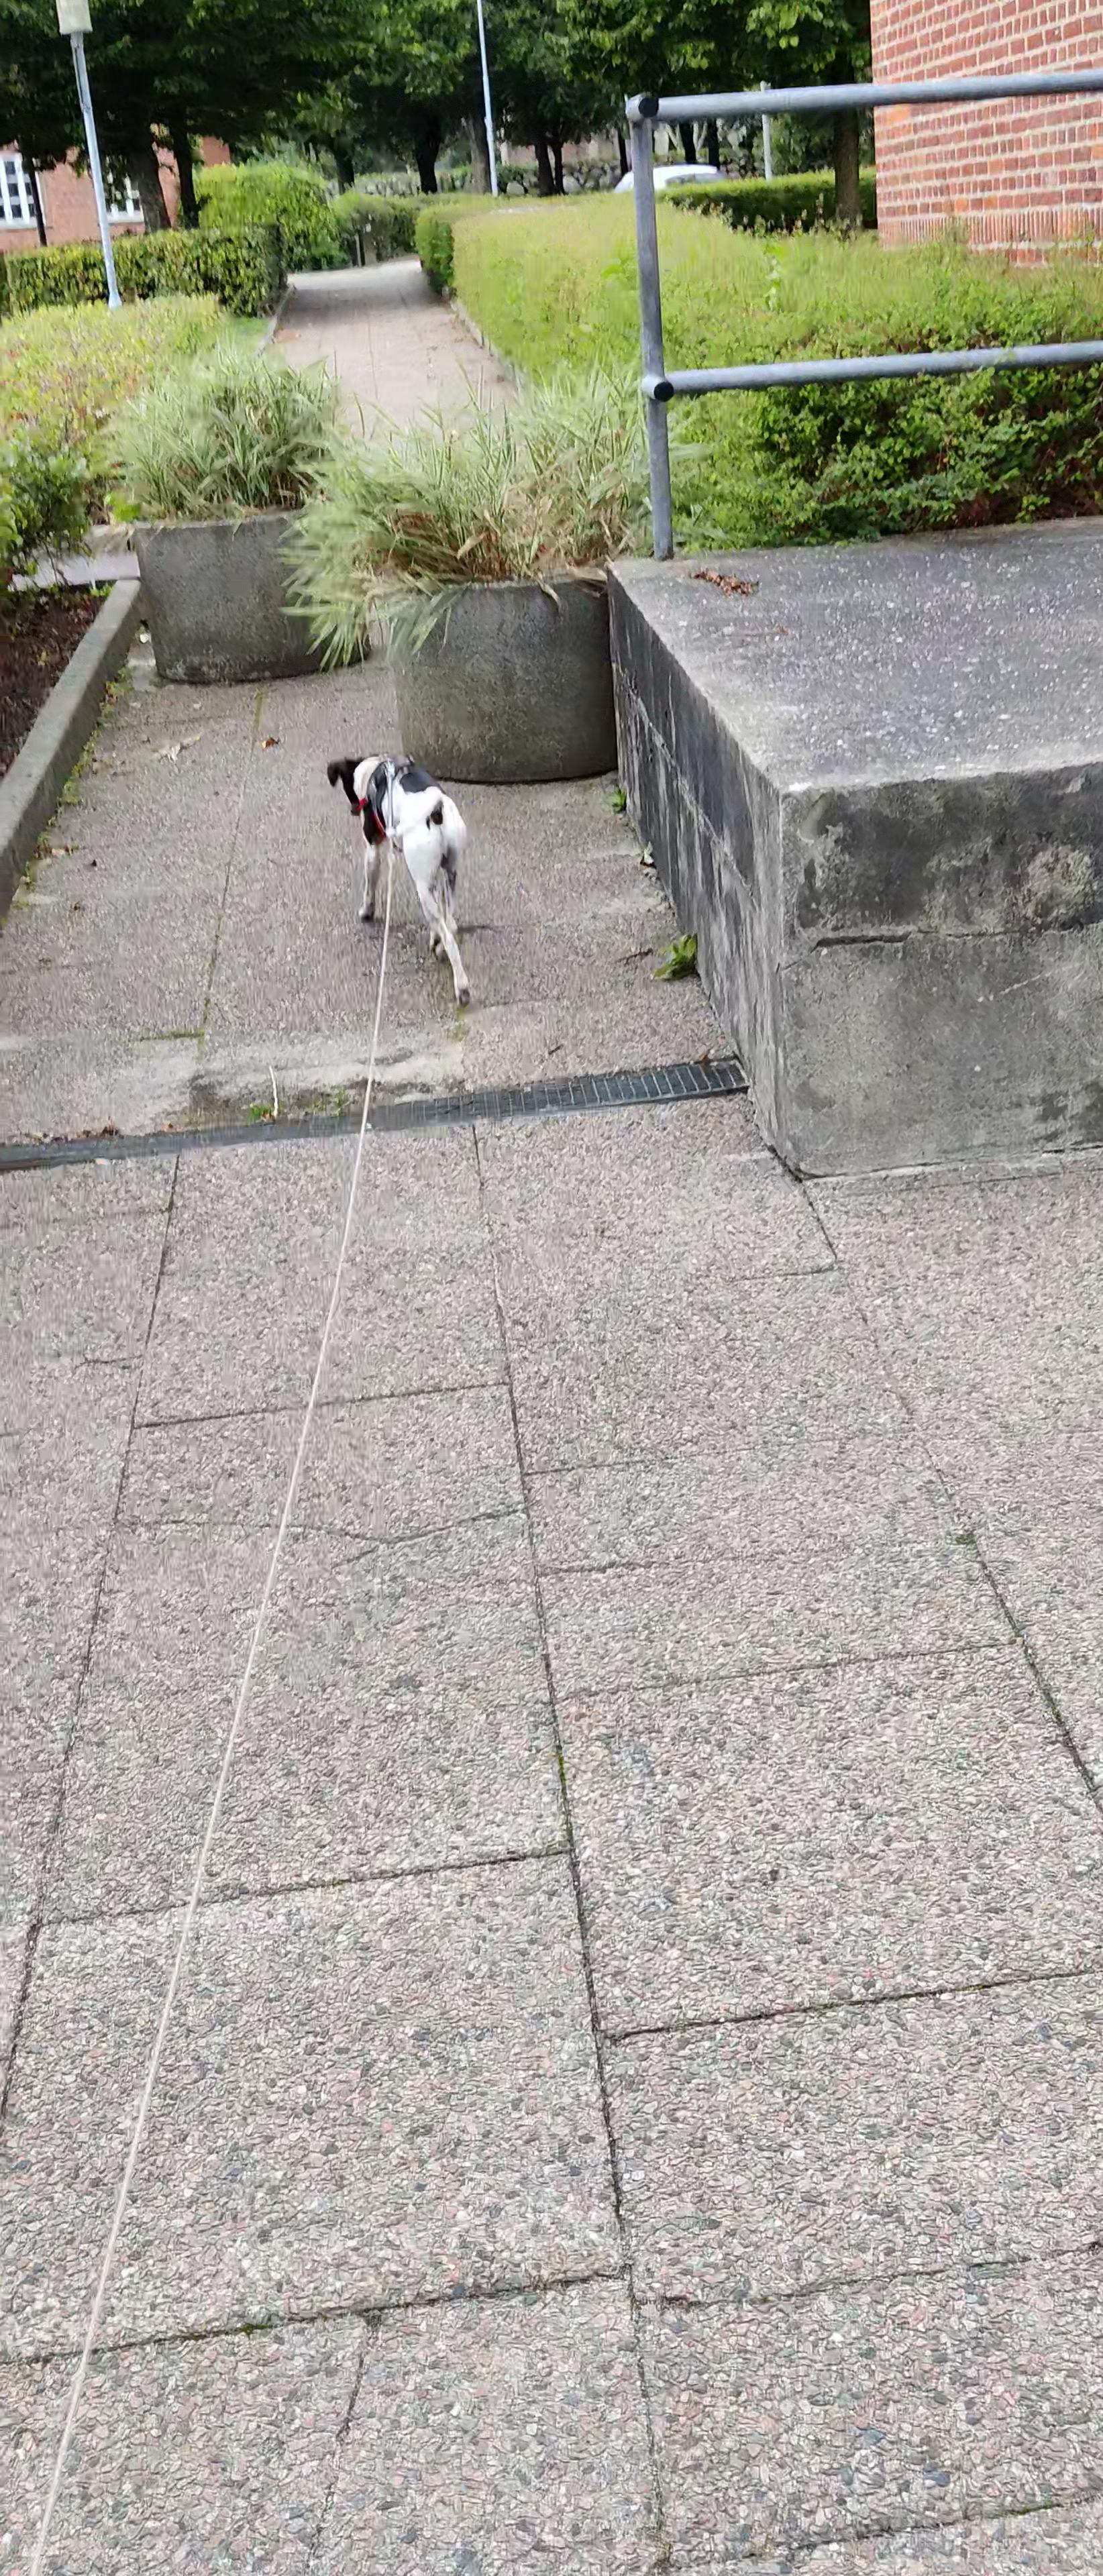Dog: (324, 747, 478, 1005)
